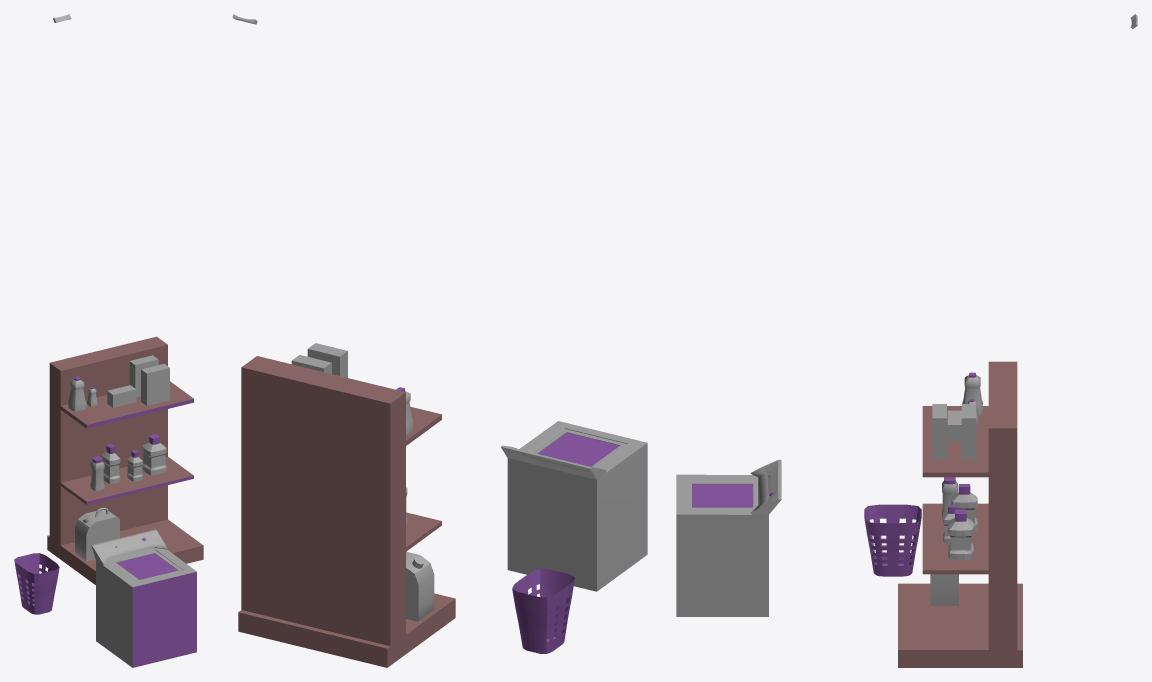
File: Maquina de lavar_cesto_produtos_prateleira.fbx
The picture shows the model from 3 angles, left to right: view 1: azimuth 30°, elevation 25°; view 2: azimuth 150°, elevation 25°; view 3: azimuth 270°, elevation 25°; orthographic projection. The views are drawn at different scales.
Parts seen in each view (by area): view 1: pCube3, pCylinder6, pCube14, pCylinder5, pCube9, pCube8, pCube7, pCube5, pCube13, pCube11, pCube10, pCube6; view 2: pCube3, pCylinder6, pCube14, pCylinder5, pCube9; view 3: pCube3, pCylinder6, pCube14, pCube8, pCylinder5, pCube5, pCube9.
Boxes of the visible parts, x1,y1,x2,y2 form: pCube3: [47, 336, 203, 584]; pCylinder6: [91, 529, 196, 667]; pCube14: [14, 553, 59, 614]; pCylinder5: [75, 507, 119, 561]; pCube9: [141, 364, 169, 405]; pCube8: [142, 434, 166, 475]; pCube7: [101, 444, 120, 483]; pCube5: [129, 355, 158, 397]; pCube13: [107, 385, 136, 407]; pCube11: [68, 376, 86, 411]; pCube10: [90, 456, 104, 490]; pCube6: [127, 450, 142, 481]; pCube3: [238, 356, 455, 667]; pCylinder6: [501, 421, 647, 591]; pCube14: [512, 568, 574, 653]; pCylinder5: [406, 551, 434, 621]; pCube9: [307, 343, 347, 377]; pCube3: [898, 361, 1022, 667]; pCylinder6: [676, 459, 781, 616]; pCube14: [864, 504, 921, 576]; pCube8: [948, 509, 973, 559]; pCylinder5: [930, 574, 958, 605]; pCube5: [961, 404, 976, 459]; pCube9: [932, 404, 946, 459].
Size of the model in its own units: 2.76 by 7.07 by 4.72.
